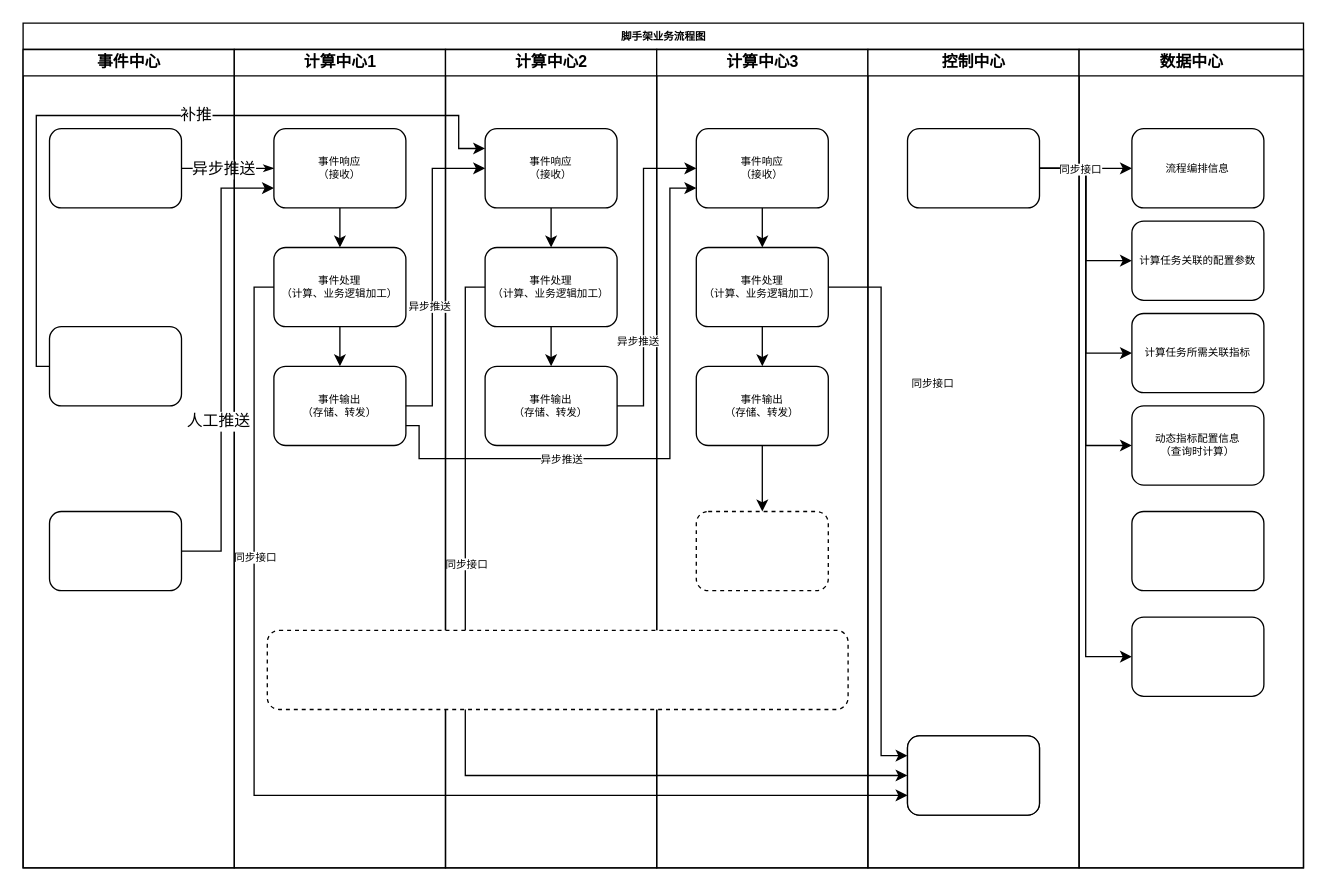
This 1327x891 diagram has some shape labels left out. Here are the shapes that lost their labels. From the top down, the centre of each, then its label:
At pixel 115 167: "原始事件".
At pixel 973 167: "计算任务下发".
At pixel 115 365: "计算事件".
At pixel 115 550: "手工事件".
At pixel 761 550: "外部消费者".
At pixel 1197 550: "静态指标配置信息".
At pixel 557 669: "公共服务 （日志记录、数据接口、规则接口等）".
At pixel 1197 656: "决策判断规则".
At pixel 973 775: "计算任务查询接口".
